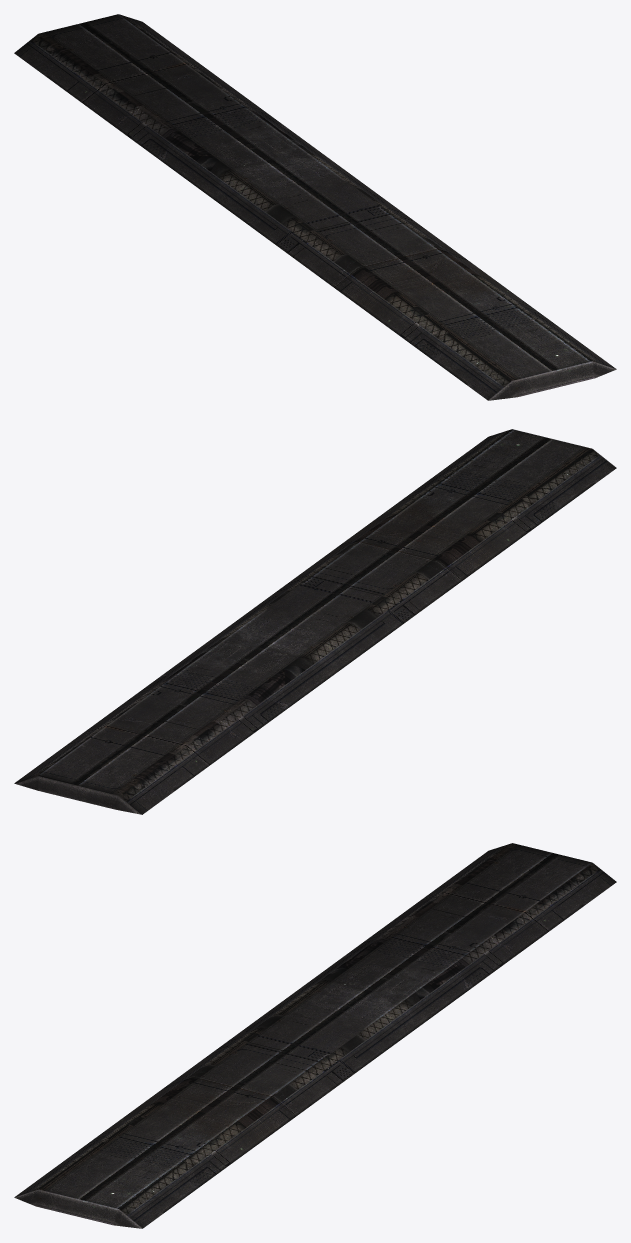
The model's file is Ceiling_D_patch5m.fbx.
3 renders of one model, top to bottom at view 1: azimuth 30°, elevation 25°; view 2: azimuth 150°, elevation 25°; view 3: azimuth 330°, elevation 25°, orthographic.
Visible parts, largest first — view 1: Ceiling_D_patch5m; view 2: Ceiling_D_patch5m; view 3: Ceiling_D_patch5m.
Part boxes in pixels (x1=…): Ceiling_D_patch5m: x1=14, y1=14, x2=616, y2=400; Ceiling_D_patch5m: x1=14, y1=429, x2=616, y2=814; Ceiling_D_patch5m: x1=14, y1=843, x2=616, y2=1228.
Bounding box in the file's own units: 63.22 × 6.39 × 407.
